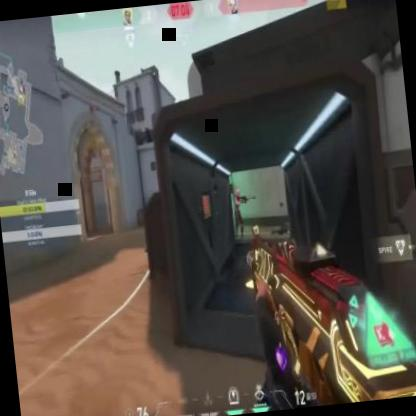enemy: (230, 184, 247, 240)
enemy_head: (234, 188, 241, 198)
